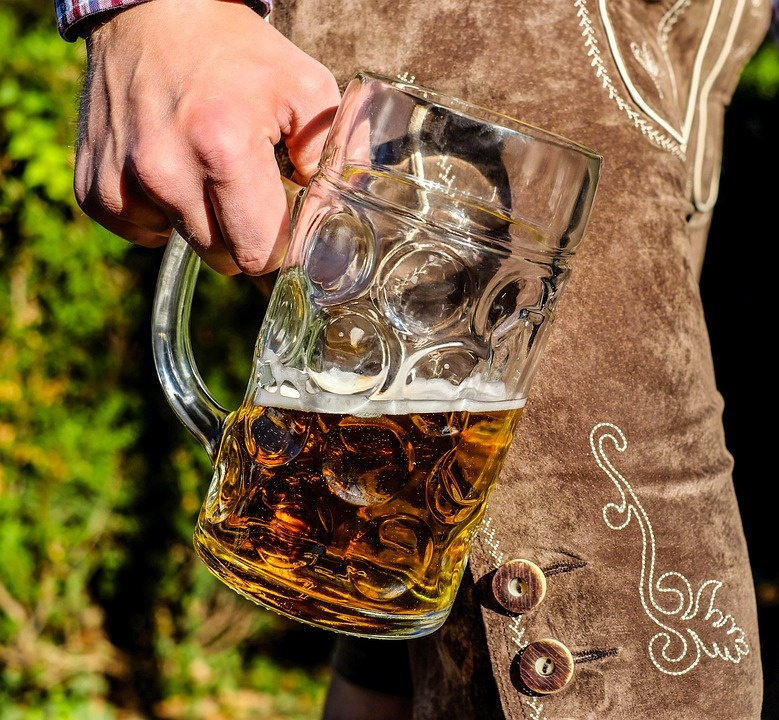glassBeer: (202, 73, 601, 635)
